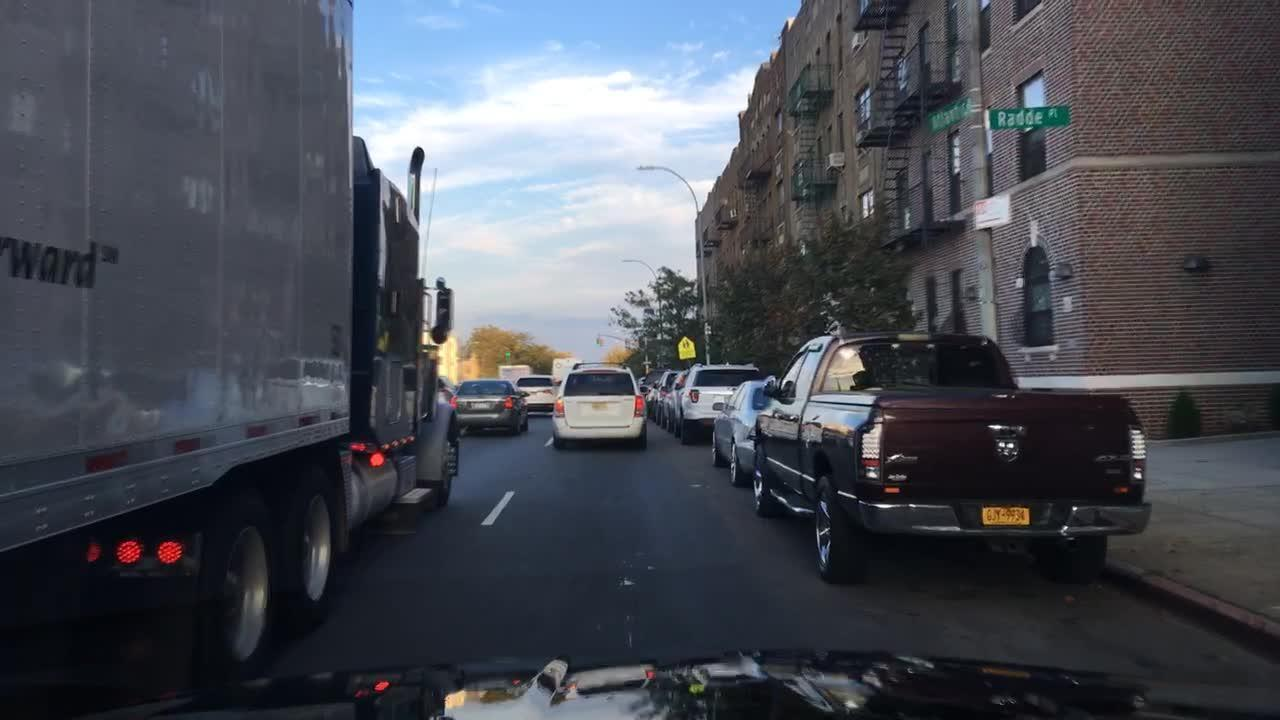ram: (993, 437, 1020, 464)
